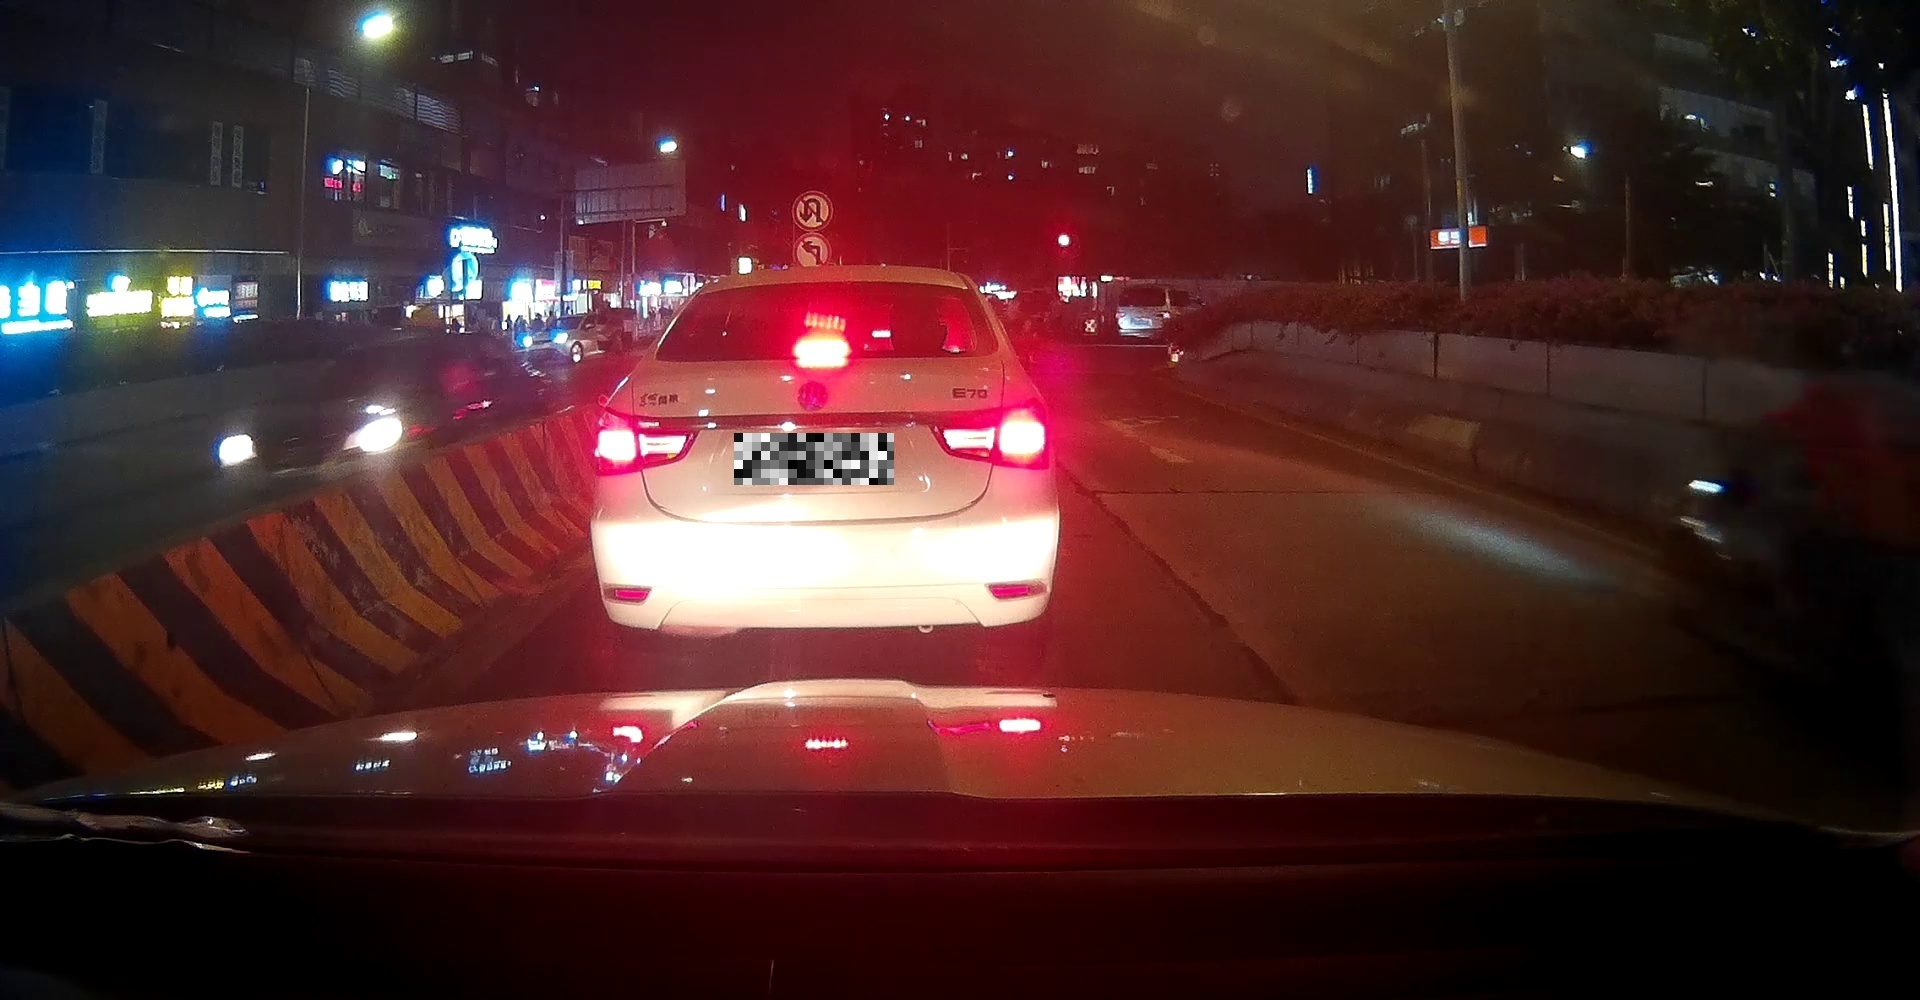L_light: (596, 409, 698, 478)
R_light: (930, 400, 1048, 471)
T_light: (792, 340, 850, 358)
night-brake: (587, 269, 1059, 678)
plate_1: (734, 433, 894, 485)
